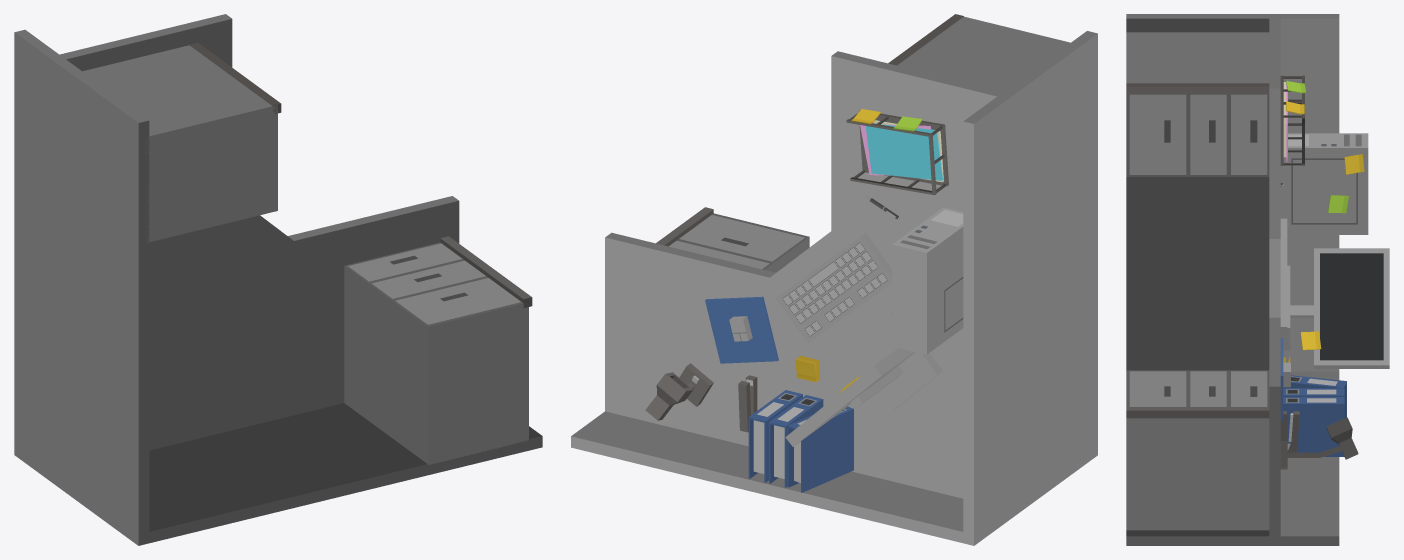
File: DeskPreset4.glb
3 renders of one model, left to right at view 1: azimuth 30°, elevation 25°; view 2: azimuth 150°, elevation 25°; view 3: azimuth 270°, elevation 25°, orthographic. The views are drawn at different scales.
Parts seen in each view (by area): view 1: SO_DeskPreset_04; view 2: SO_DeskPreset_04; view 3: SO_DeskPreset_04.
Part boxes in pixels (x1,y1,x2,y2): SO_DeskPreset_04: (14, 14, 542, 545); SO_DeskPreset_04: (571, 14, 1097, 545); SO_DeskPreset_04: (1126, 14, 1389, 545).
Bounding box in the file's own units: 4.08 × 4.08 × 2.69.
Materials: 1 (1 with a texture image).
